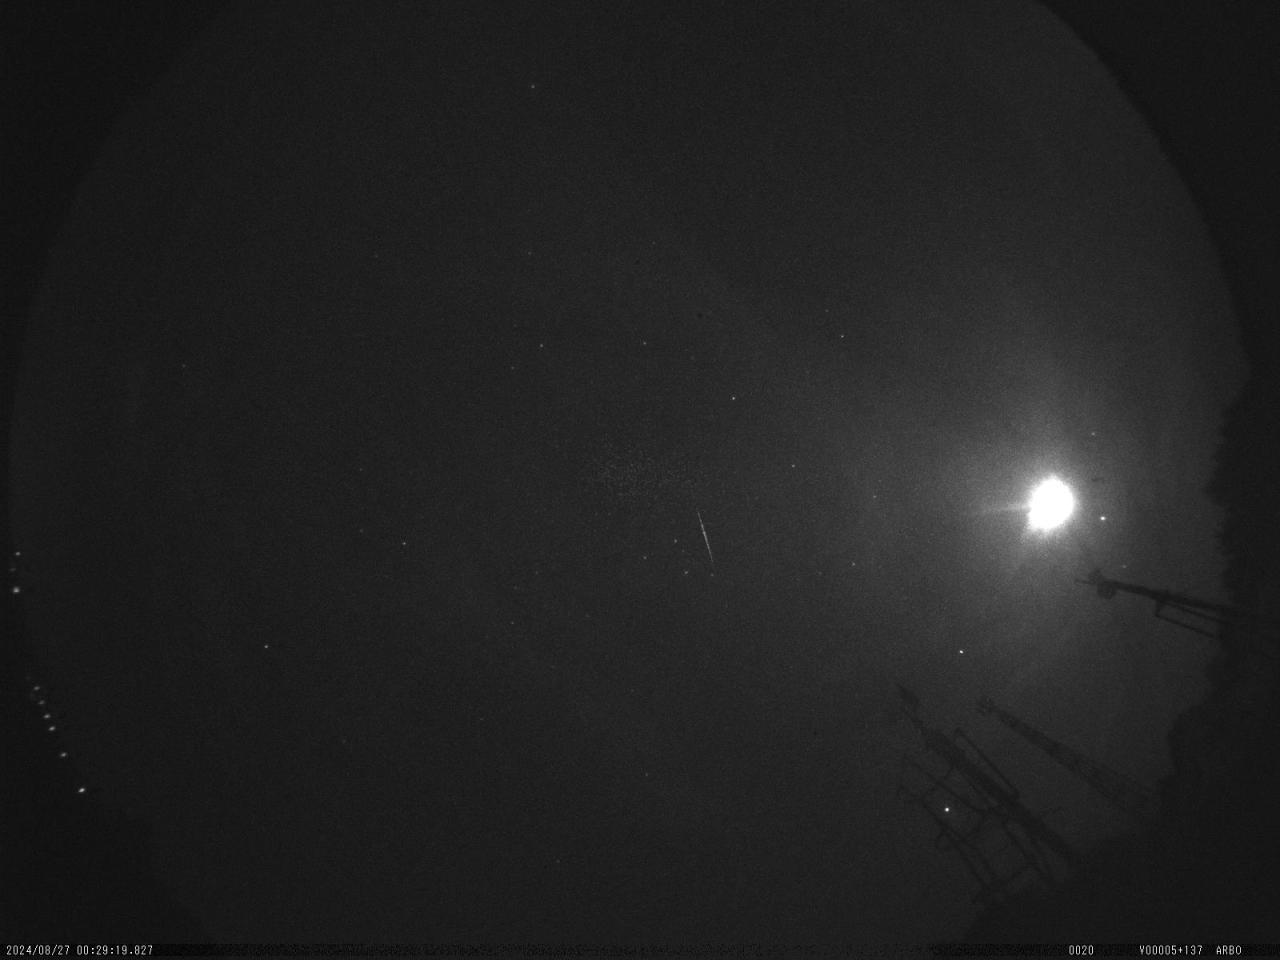Meteor: (690, 498, 723, 572)
